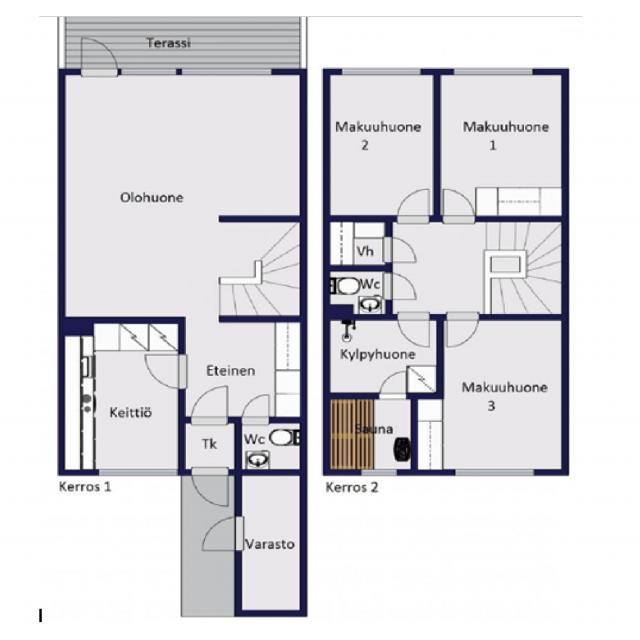door: (190, 382, 228, 423), (191, 468, 228, 510), (80, 34, 116, 76), (200, 516, 242, 550), (143, 355, 185, 388), (447, 314, 479, 350), (396, 314, 428, 350), (397, 185, 428, 221), (444, 186, 474, 221), (385, 271, 421, 299), (378, 367, 405, 399), (243, 393, 269, 423), (385, 237, 417, 261)
